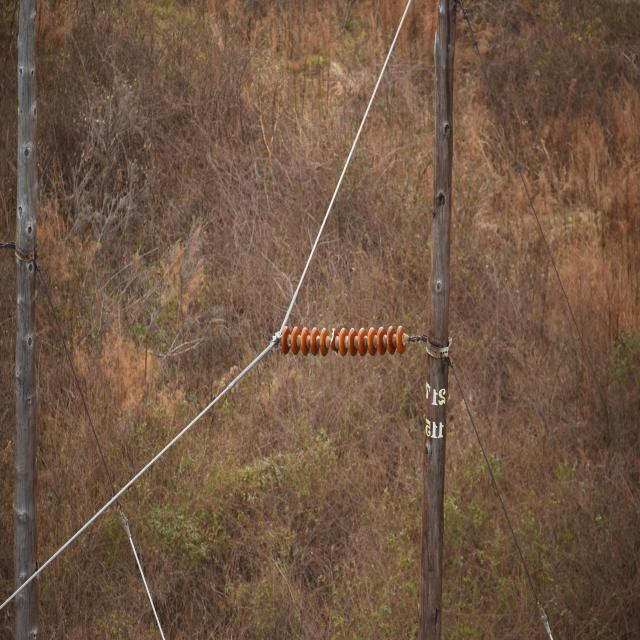broken: (329, 324, 339, 357)
insulator: (281, 325, 407, 355)
